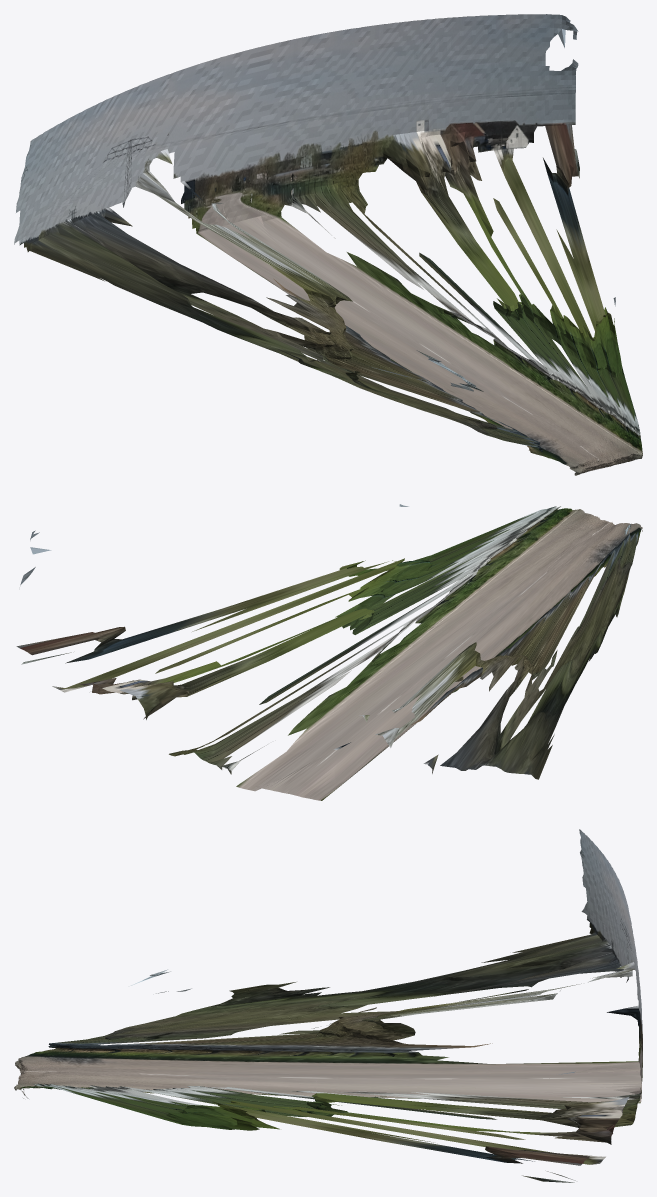
3 views of the same model, one above another, from view 1: azimuth 30°, elevation 25°; view 2: azimuth 150°, elevation 25°; view 3: azimuth 270°, elevation 25° (orthographic). The views are drawn at different scales.
Visible parts, largest first — view 1: defaultobject; view 2: defaultobject; view 3: defaultobject.
Part boxes in pixels (box(x1,y1,x2,y2)): defaultobject: box(14, 14, 642, 475); defaultobject: box(16, 504, 642, 800); defaultobject: box(14, 829, 642, 1182).
Size of the model in its own units: 40.42 by 12.47 by 44.43.
Materials: 1 (1 with a texture image).
